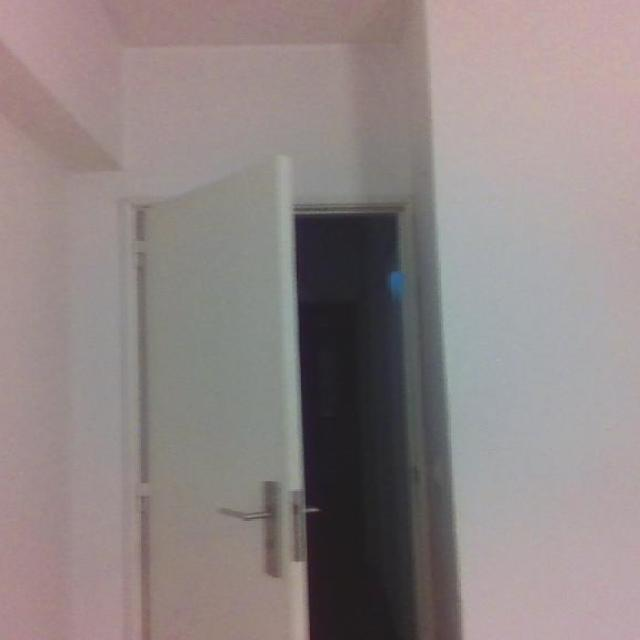door: (130, 153, 309, 638)
